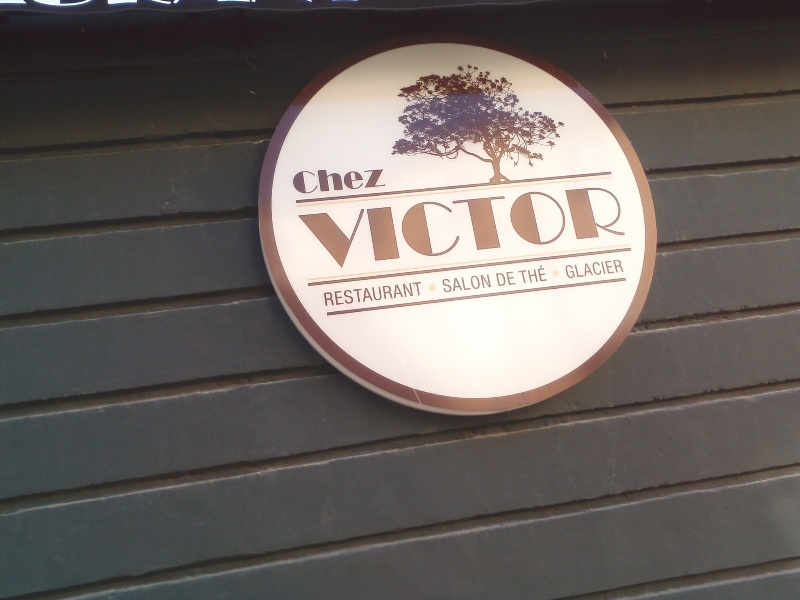text: (305, 179, 320, 273), (321, 179, 336, 273), (337, 179, 352, 273), (353, 179, 368, 273), (369, 179, 384, 273), (385, 179, 400, 273), (401, 179, 416, 273), (417, 179, 432, 273), (433, 179, 448, 273), (449, 179, 464, 273), (465, 179, 480, 273), (481, 179, 496, 273), (497, 179, 512, 273), (513, 179, 528, 273), (529, 179, 544, 273), (545, 179, 560, 273), (561, 179, 576, 273), (577, 179, 592, 273), (593, 179, 608, 273), (609, 179, 624, 273), (297, 179, 304, 273), (337, 281, 352, 308), (353, 281, 368, 308), (369, 281, 384, 308), (385, 281, 400, 308), (401, 281, 416, 308), (289, 169, 304, 195), (305, 169, 320, 195), (321, 169, 336, 195), (337, 169, 352, 195), (353, 169, 368, 195), (369, 169, 384, 195), (323, 281, 336, 308), (449, 272, 464, 294), (465, 272, 480, 294), (609, 259, 625, 279), (577, 259, 592, 279), (593, 259, 608, 279), (529, 265, 544, 284), (417, 281, 426, 308), (481, 272, 492, 294), (564, 259, 576, 279), (497, 272, 512, 287), (517, 265, 528, 284), (442, 272, 448, 294), (625, 179, 626, 273), (385, 169, 388, 195), (513, 272, 518, 287), (545, 265, 548, 284), (495, 272, 496, 287)
